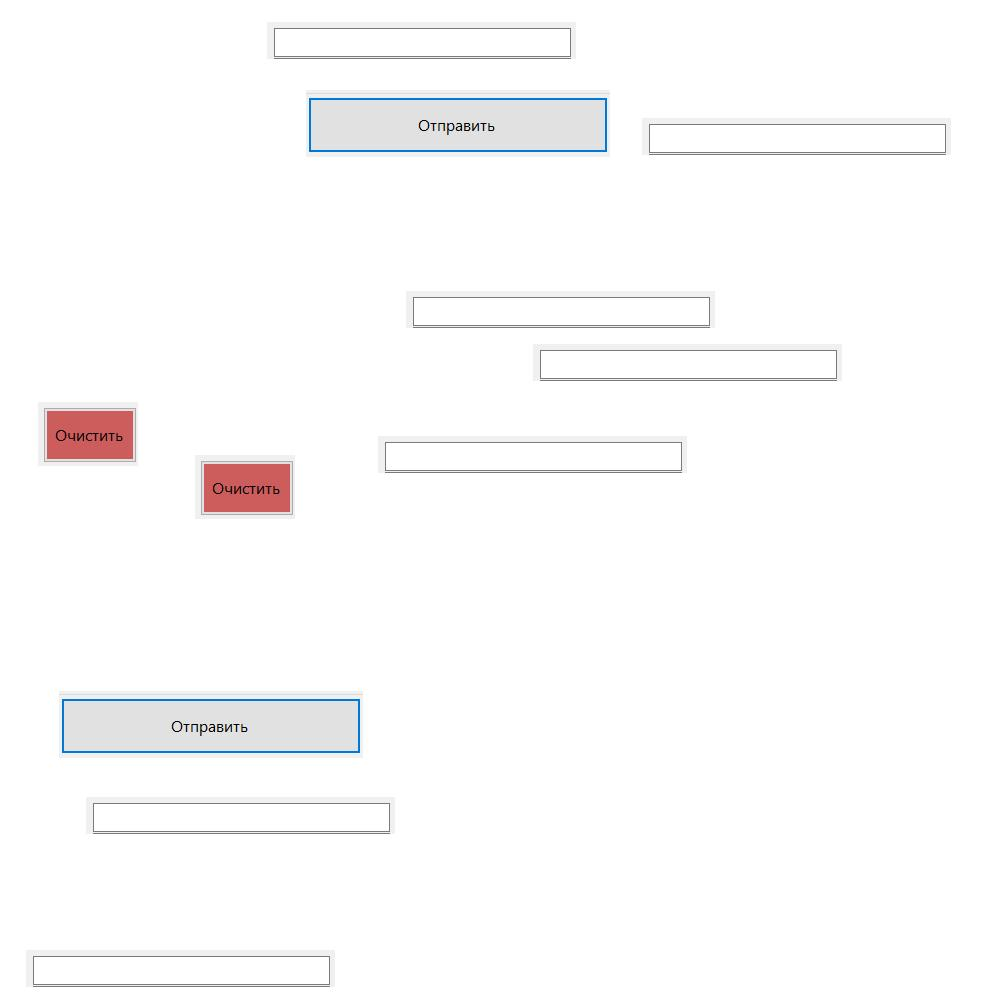Button: (59, 691, 363, 758), (306, 90, 610, 157), (195, 455, 295, 519), (38, 402, 138, 466)
EditText-: (642, 118, 951, 155), (533, 344, 842, 381), (267, 22, 576, 59), (406, 291, 715, 328), (26, 950, 335, 987), (86, 797, 395, 834), (378, 436, 687, 473)
